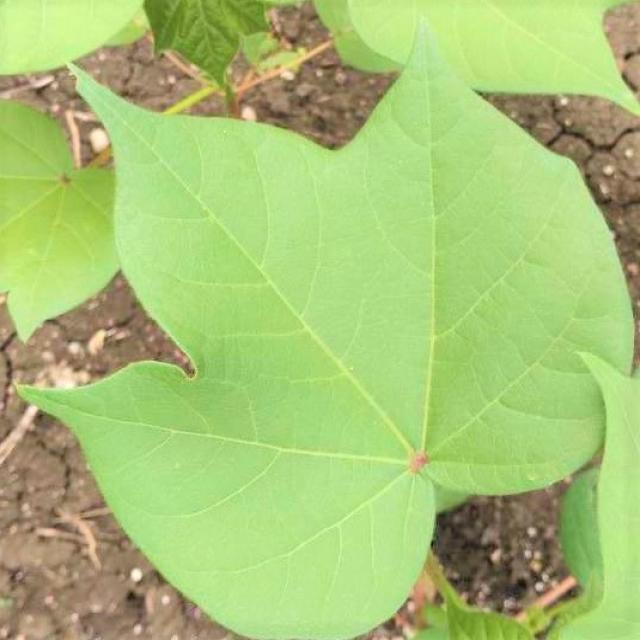Healthy Leaf: (108, 113, 418, 604)
